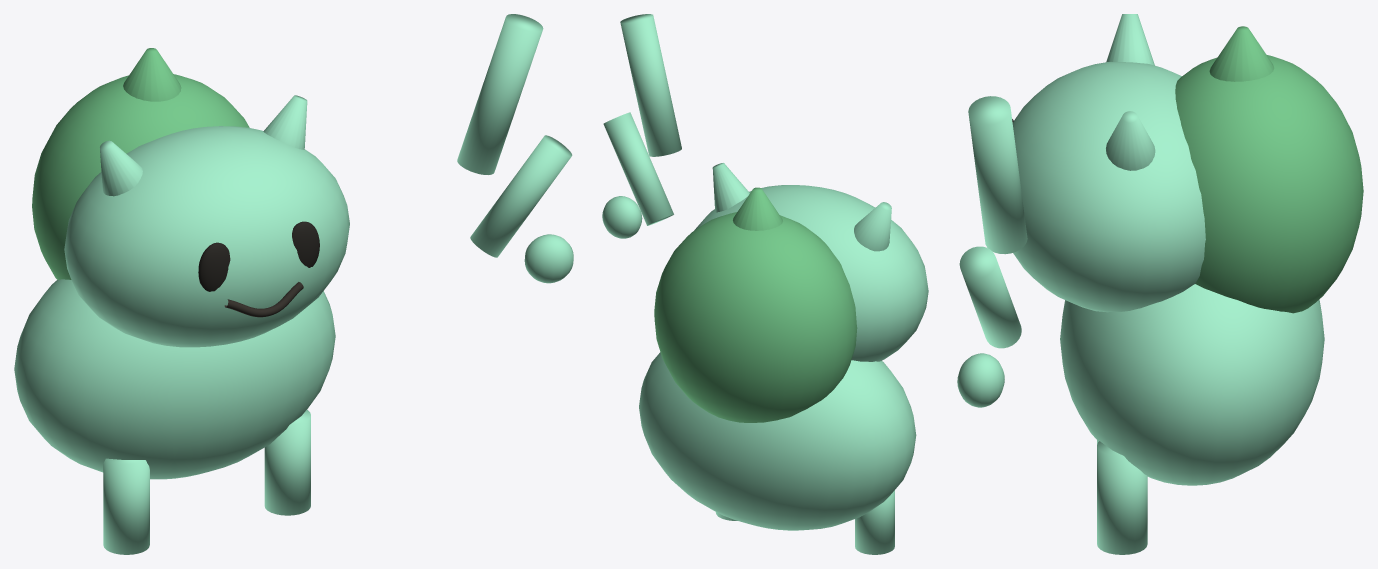
The model's file is bulbasaur-greeting.glb.
3 views of the same model, side by side, from view 1: azimuth 30°, elevation 25°; view 2: azimuth 150°, elevation 25°; view 3: azimuth 270°, elevation 25° (orthographic). The views are drawn at different scales.
Parts seen in each view (by area): view 1: head, body, bulb, right_upper_arm, right_forearm, left_leg, right_leg, bulb_tip, right_hand, left_ear, right_ear, eye (+2 smaller); view 2: bulb, body, head, right_upper_arm, right_forearm, left_leg, bulb_tip, right_hand, left_ear, right_ear; view 3: body, head, bulb, right_upper_arm, right_leg, right_forearm, bulb_tip, right_ear, right_hand, left_ear.
Part boxes in pixels (x1,y1,x2,y2): head: (64, 126, 349, 347); body: (14, 279, 335, 479); bulb: (32, 74, 249, 279); right_upper_arm: (457, 14, 543, 174); right_forearm: (470, 135, 572, 257); left_leg: (103, 458, 149, 554); right_leg: (264, 410, 310, 515); bulb_tip: (123, 48, 181, 101); right_hand: (524, 234, 573, 283); left_ear: (100, 140, 142, 196); right_ear: (263, 95, 307, 149); eye: (198, 242, 230, 291); bulb: (654, 212, 857, 422); body: (639, 352, 916, 530); head: (694, 185, 928, 361); right_upper_arm: (620, 14, 681, 156); right_forearm: (603, 112, 673, 225); left_leg: (855, 490, 894, 554); bulb_tip: (733, 187, 782, 230); right_hand: (602, 196, 642, 238); left_ear: (854, 202, 891, 251); right_ear: (712, 163, 749, 212); body: (1060, 284, 1324, 485); head: (1012, 62, 1205, 312); bulb: (1175, 55, 1363, 313); right_upper_arm: (968, 96, 1027, 254); right_leg: (1097, 441, 1147, 554); right_forearm: (959, 246, 1021, 348); bulb_tip: (1209, 26, 1274, 81); right_ear: (1106, 111, 1155, 170); right_hand: (957, 353, 1004, 407); left_ear: (1106, 14, 1154, 65).
Size of the model in its own units: 1.44 by 1.51 by 1.04.
